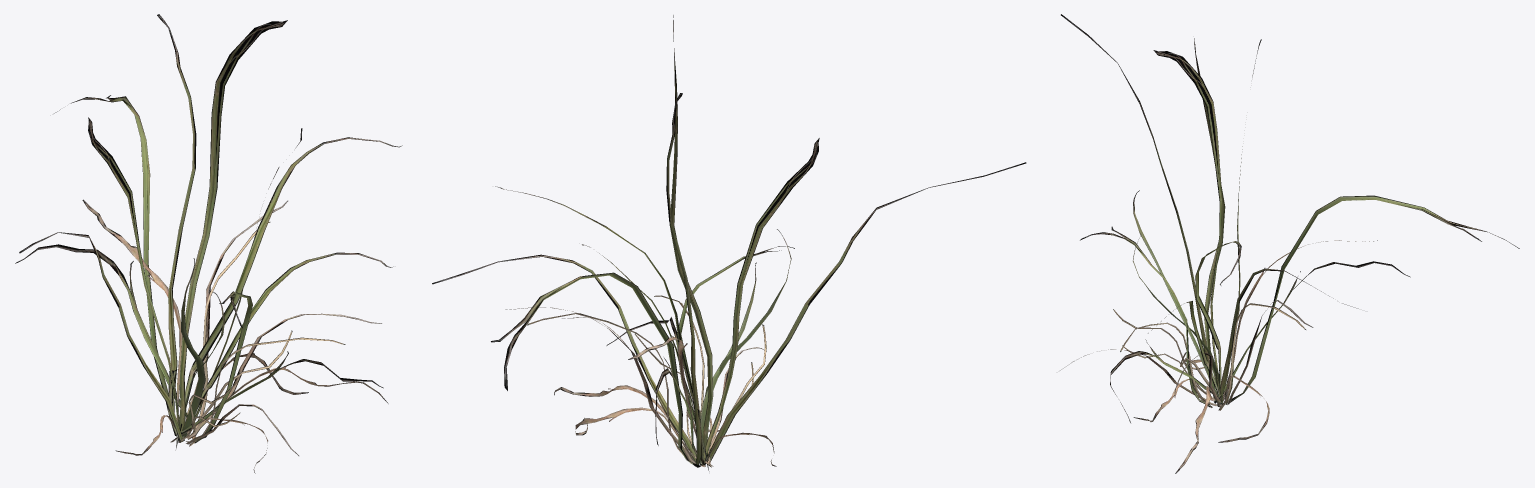
File: grass.glb
The picture shows the model from 3 angles, left to right: view 1: azimuth 30°, elevation 25°; view 2: azimuth 150°, elevation 25°; view 3: azimuth 270°, elevation 25°; orthographic projection. The views are drawn at different scales.
Parts seen in each view (by area): view 1: grass_medium_02_c; view 2: grass_medium_02_c; view 3: grass_medium_02_c.
Boxes of the visible parts, left/top/right/bottom form: grass_medium_02_c: left=15, top=14, right=402, bottom=473; grass_medium_02_c: left=432, top=15, right=1026, bottom=471; grass_medium_02_c: left=1060, top=14, right=1519, bottom=473.
Bounding box in the file's own units: 0.1717 × 0.152 × 0.1637.
1 material, 1 textured.
